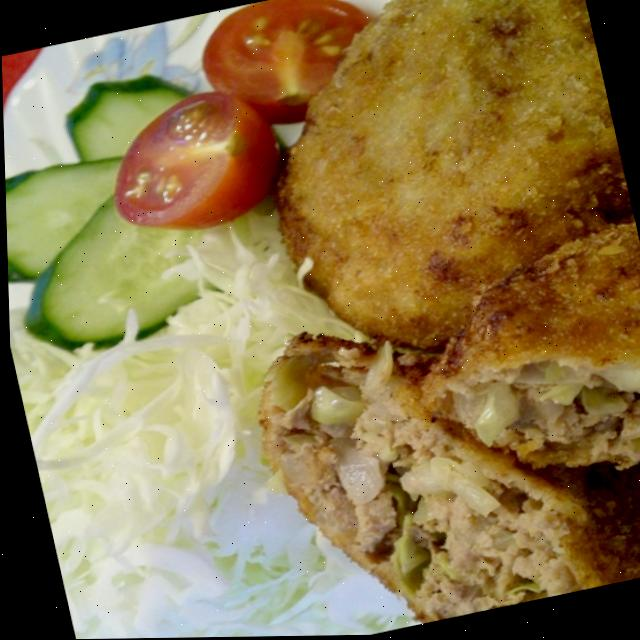炸货点心: (154, 0, 640, 638)
